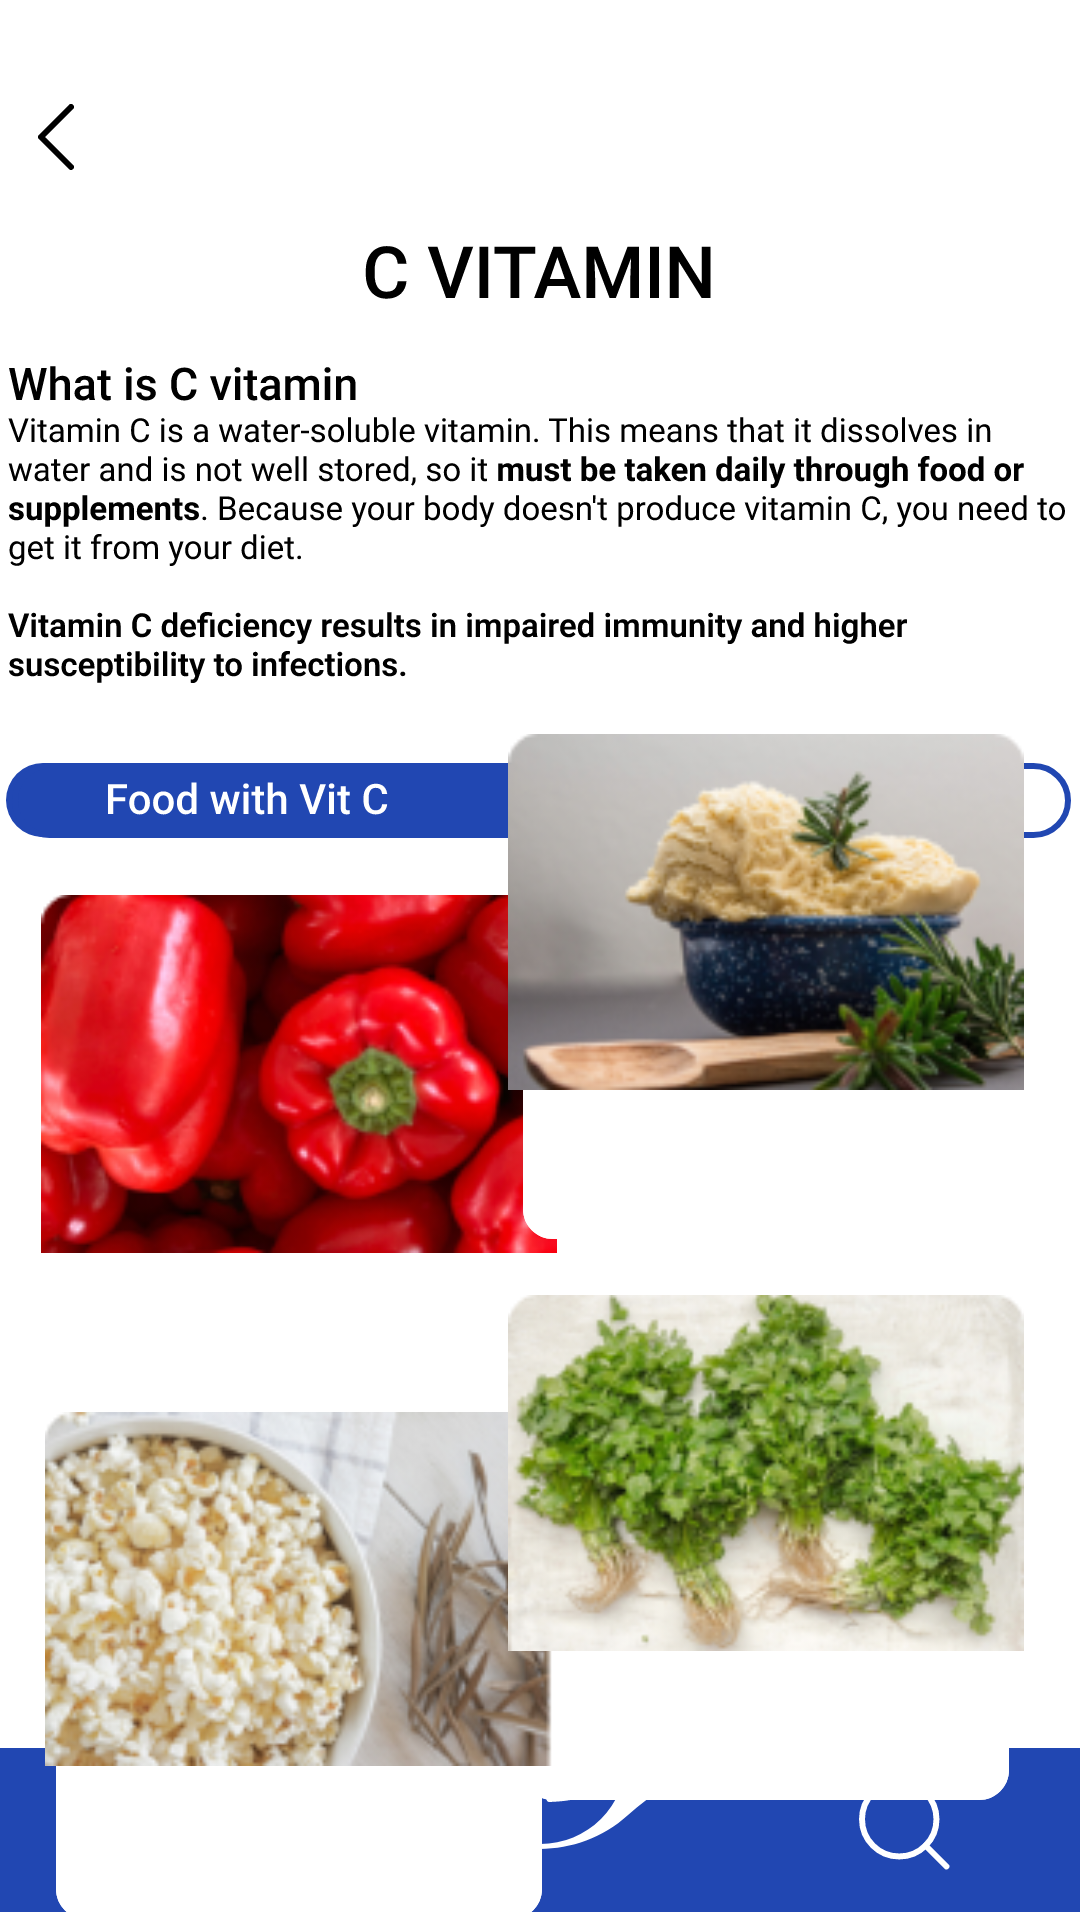

Locate icon controls on the screen. Image size 1080×1920, boxes as bbox=(x1, y1, x2, y2).
backarrow: bbox=(38, 104, 74, 170)
